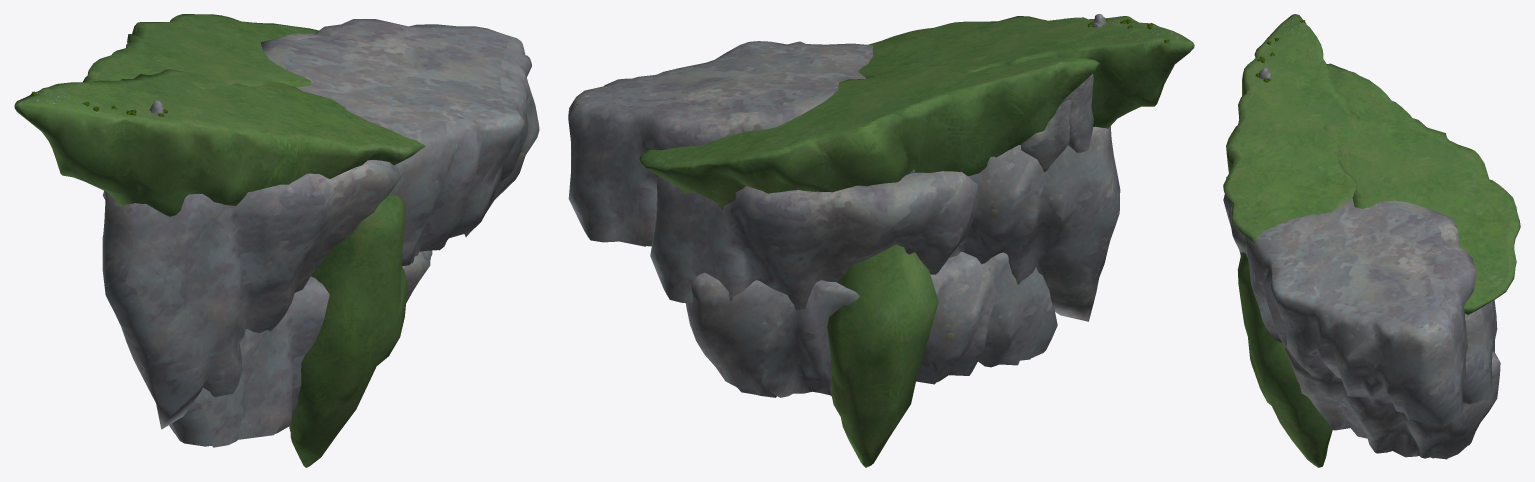
Rendered from Grassland.fbx.
3 renders of one model, left to right at view 1: azimuth 30°, elevation 25°; view 2: azimuth 150°, elevation 25°; view 3: azimuth 270°, elevation 25°, orthographic. The views are drawn at different scales.
Parts seen in each view (by area): view 1: Body; view 2: Body; view 3: Body.
Part boxes in pixels (x1,y1,x2,y2): Body: (14, 14, 539, 467); Body: (568, 14, 1194, 467); Body: (1223, 14, 1520, 467).
Bounding box in the file's own units: 77.9 × 58.05 × 44.75.
5 materials, 5 textured.
